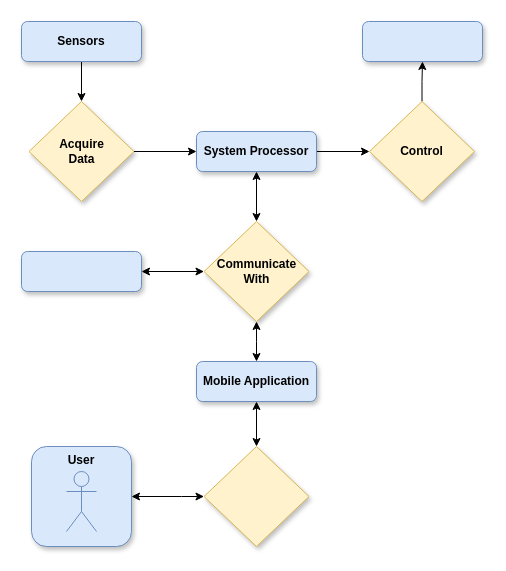
Some shapes in this 506 by 571 pixel diagram are drawn without their labels. The centre of each missing label's shape, as x and y in pixels:
"Actuators" goes at [423,42].
"Database" goes at [82,272].
"Interfaces With" goes at [257,498].
